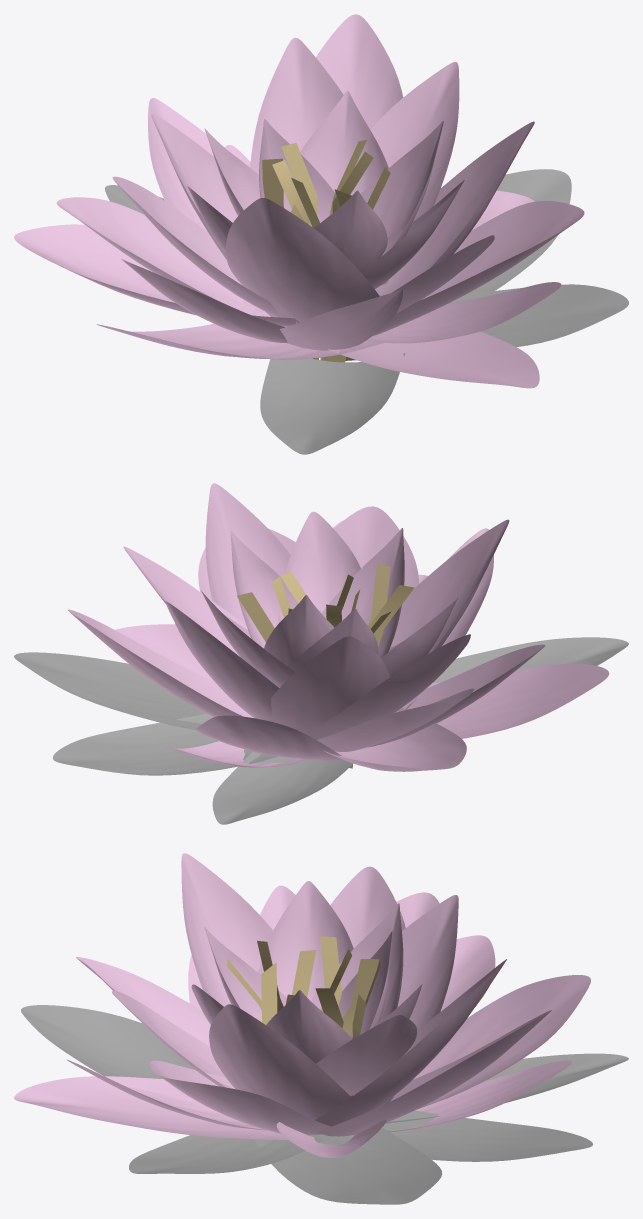
Rendered from Lilly.fbx.
3 renders of one model, top to bottom at view 1: azimuth 30°, elevation 25°; view 2: azimuth 150°, elevation 25°; view 3: azimuth 270°, elevation 25°, orthographic. The views are drawn at different scales.
Parts seen in each view (by area): view 1: pPlane4, pPlane74; view 2: pPlane4, pPlane74; view 3: pPlane4, pPlane74.
Boxes of the visible parts, x1,y1,x2,y2 form: pPlane4: [14, 14, 628, 454]; pPlane74: [262, 140, 390, 362]; pPlane4: [14, 483, 628, 824]; pPlane74: [237, 563, 414, 768]; pPlane4: [14, 853, 628, 1204]; pPlane74: [227, 936, 380, 1096].
Bounding box in the file's own units: 1.16 × 0.4979 × 1.17.
